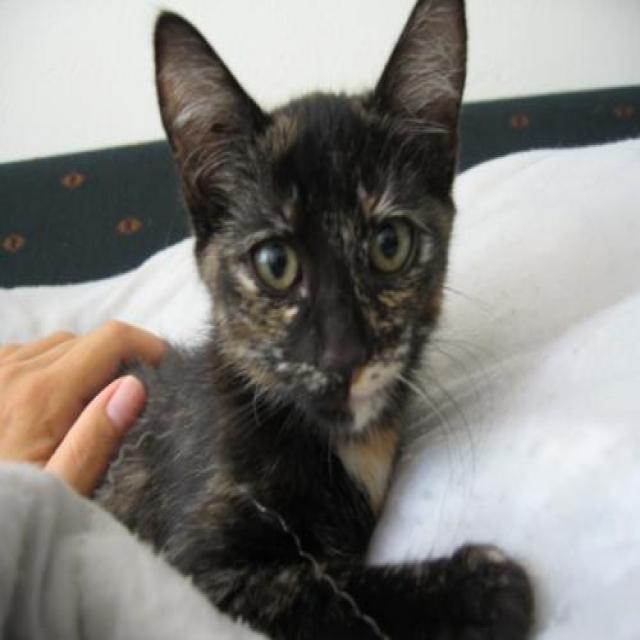Cats: (89, 0, 536, 638)
